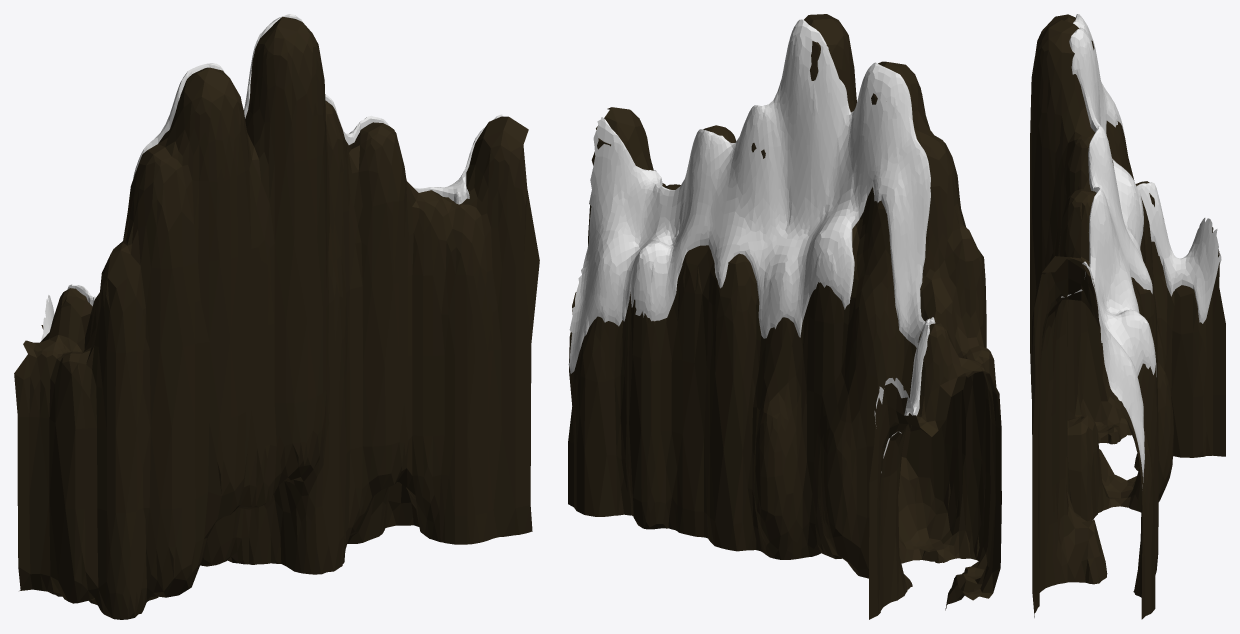
File: Mtn_Wall_N3.fbx
The picture shows the model from 3 angles, left to right: view 1: azimuth 30°, elevation 25°; view 2: azimuth 150°, elevation 25°; view 3: azimuth 270°, elevation 25°; orthographic projection. The views are drawn at different scales.
Visible parts, largest first — view 1: Mtn_Wall_N3; view 2: Mtn_Wall_N3; view 3: Mtn_Wall_N3.
Boxes of the visible parts, <box> form: Mtn_Wall_N3: <box>14,14,539,619</box>; Mtn_Wall_N3: <box>568,14,1001,619</box>; Mtn_Wall_N3: <box>1030,14,1225,619</box>.
Size of the model in its own units: 20344 by 22894 by 8203.
